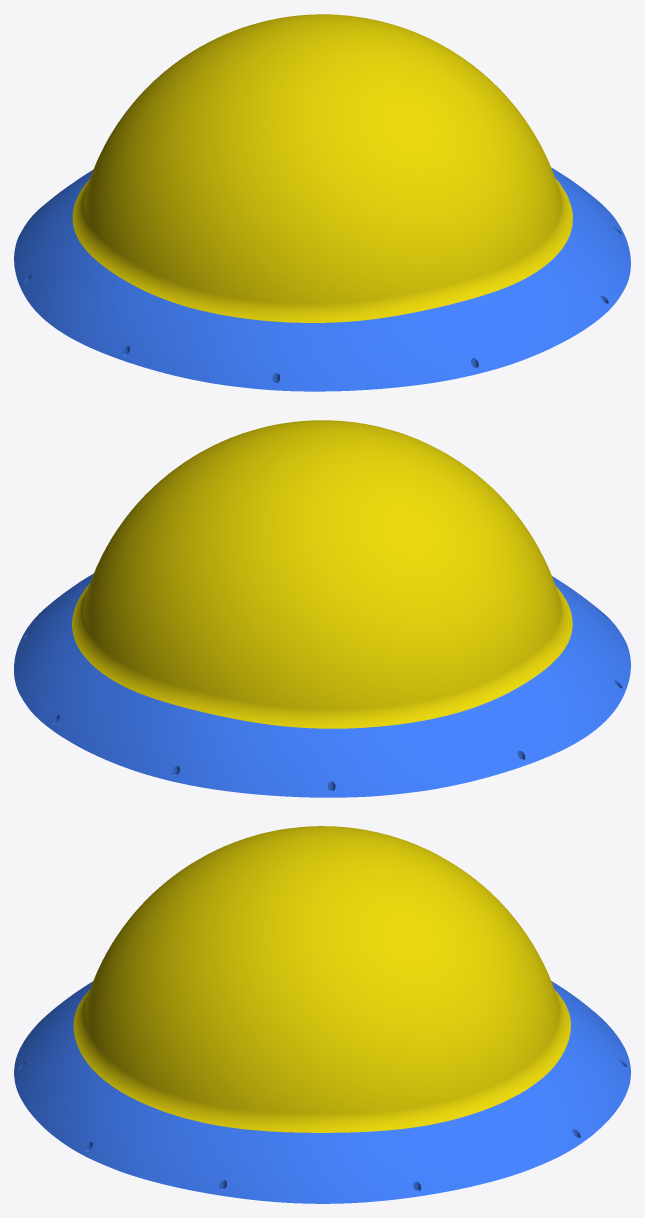
Rendered from hold_conver_no5.glb.
The picture shows the model from 3 angles, top to bottom: view 1: azimuth 30°, elevation 25°; view 2: azimuth 150°, elevation 25°; view 3: azimuth 270°, elevation 25°; orthographic projection.
Visible parts, largest first — view 1: Object_2, Object_3; view 2: Object_2, Object_3; view 3: Object_2, Object_3.
Boxes of the visible parts, x1,y1,x2,y2 form: Object_2: [72, 14, 572, 322]; Object_3: [14, 167, 630, 391]; Object_2: [72, 420, 572, 728]; Object_3: [14, 573, 630, 797]; Object_2: [73, 826, 570, 1132]; Object_3: [14, 981, 630, 1203].
Size of the model in its own units: 629 by 250 by 625.
